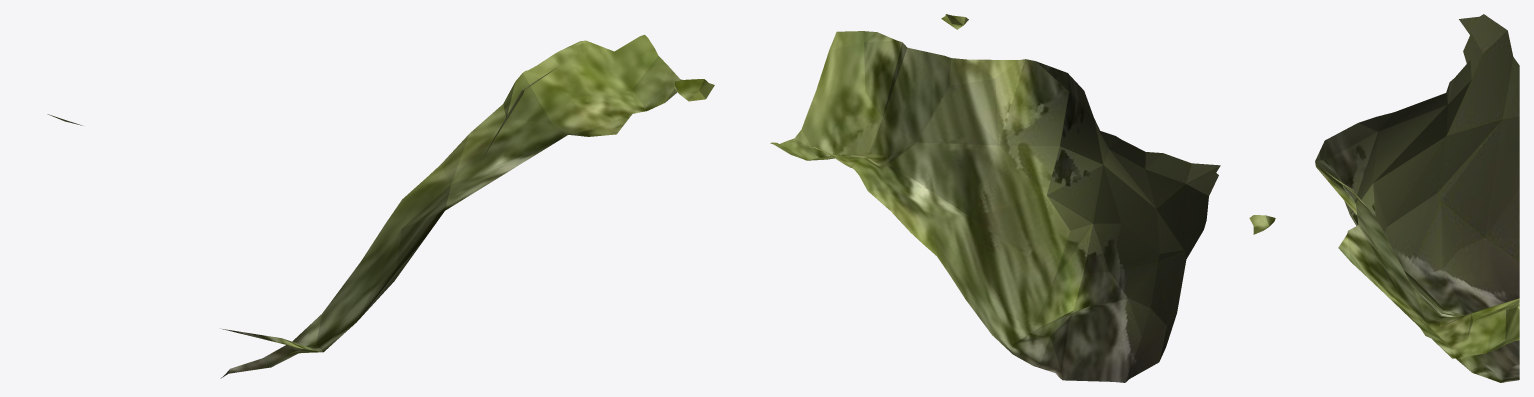
3 renders of one model, left to right at view 1: azimuth 30°, elevation 25°; view 2: azimuth 150°, elevation 25°; view 3: azimuth 270°, elevation 25°, orthographic. The views are drawn at different scales.
Bounding box in the file's own units: 2.95 × 1.48 × 1.34.
1 material, 1 textured.
